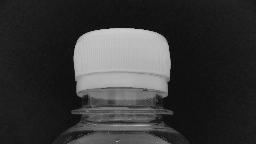Loose Cap: (65, 68, 179, 118)
